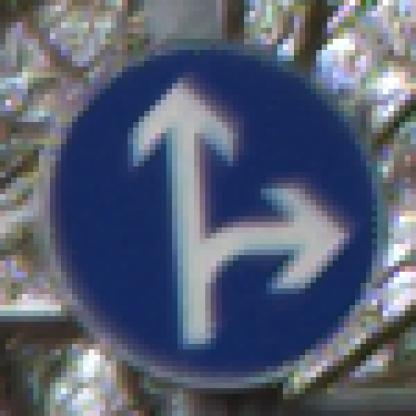Straight or Right: (40, 34, 384, 384)
